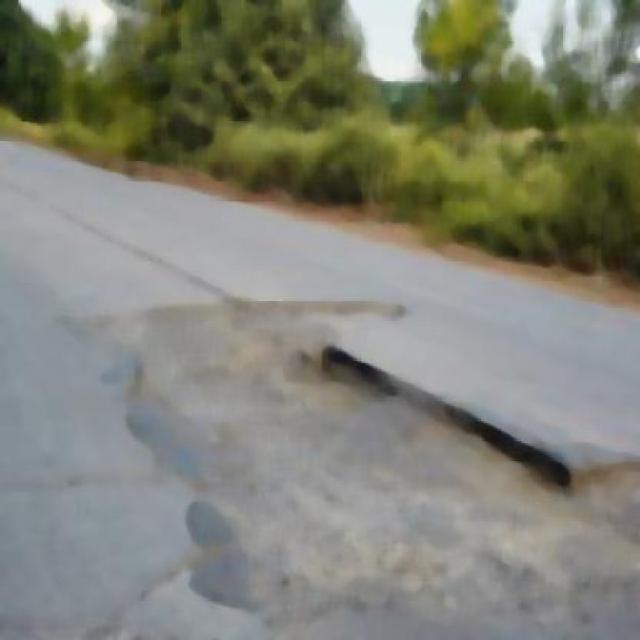Pothole: (105, 304, 546, 604)
